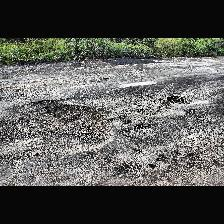pothole: (30, 99, 112, 150), (166, 94, 188, 106), (155, 154, 169, 162), (132, 124, 148, 130), (147, 164, 155, 168), (103, 78, 109, 80)
